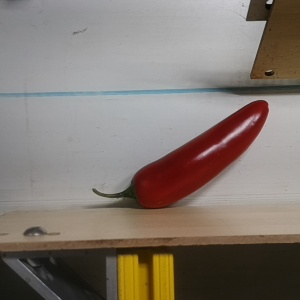Cut Point: (120, 172, 154, 208)
